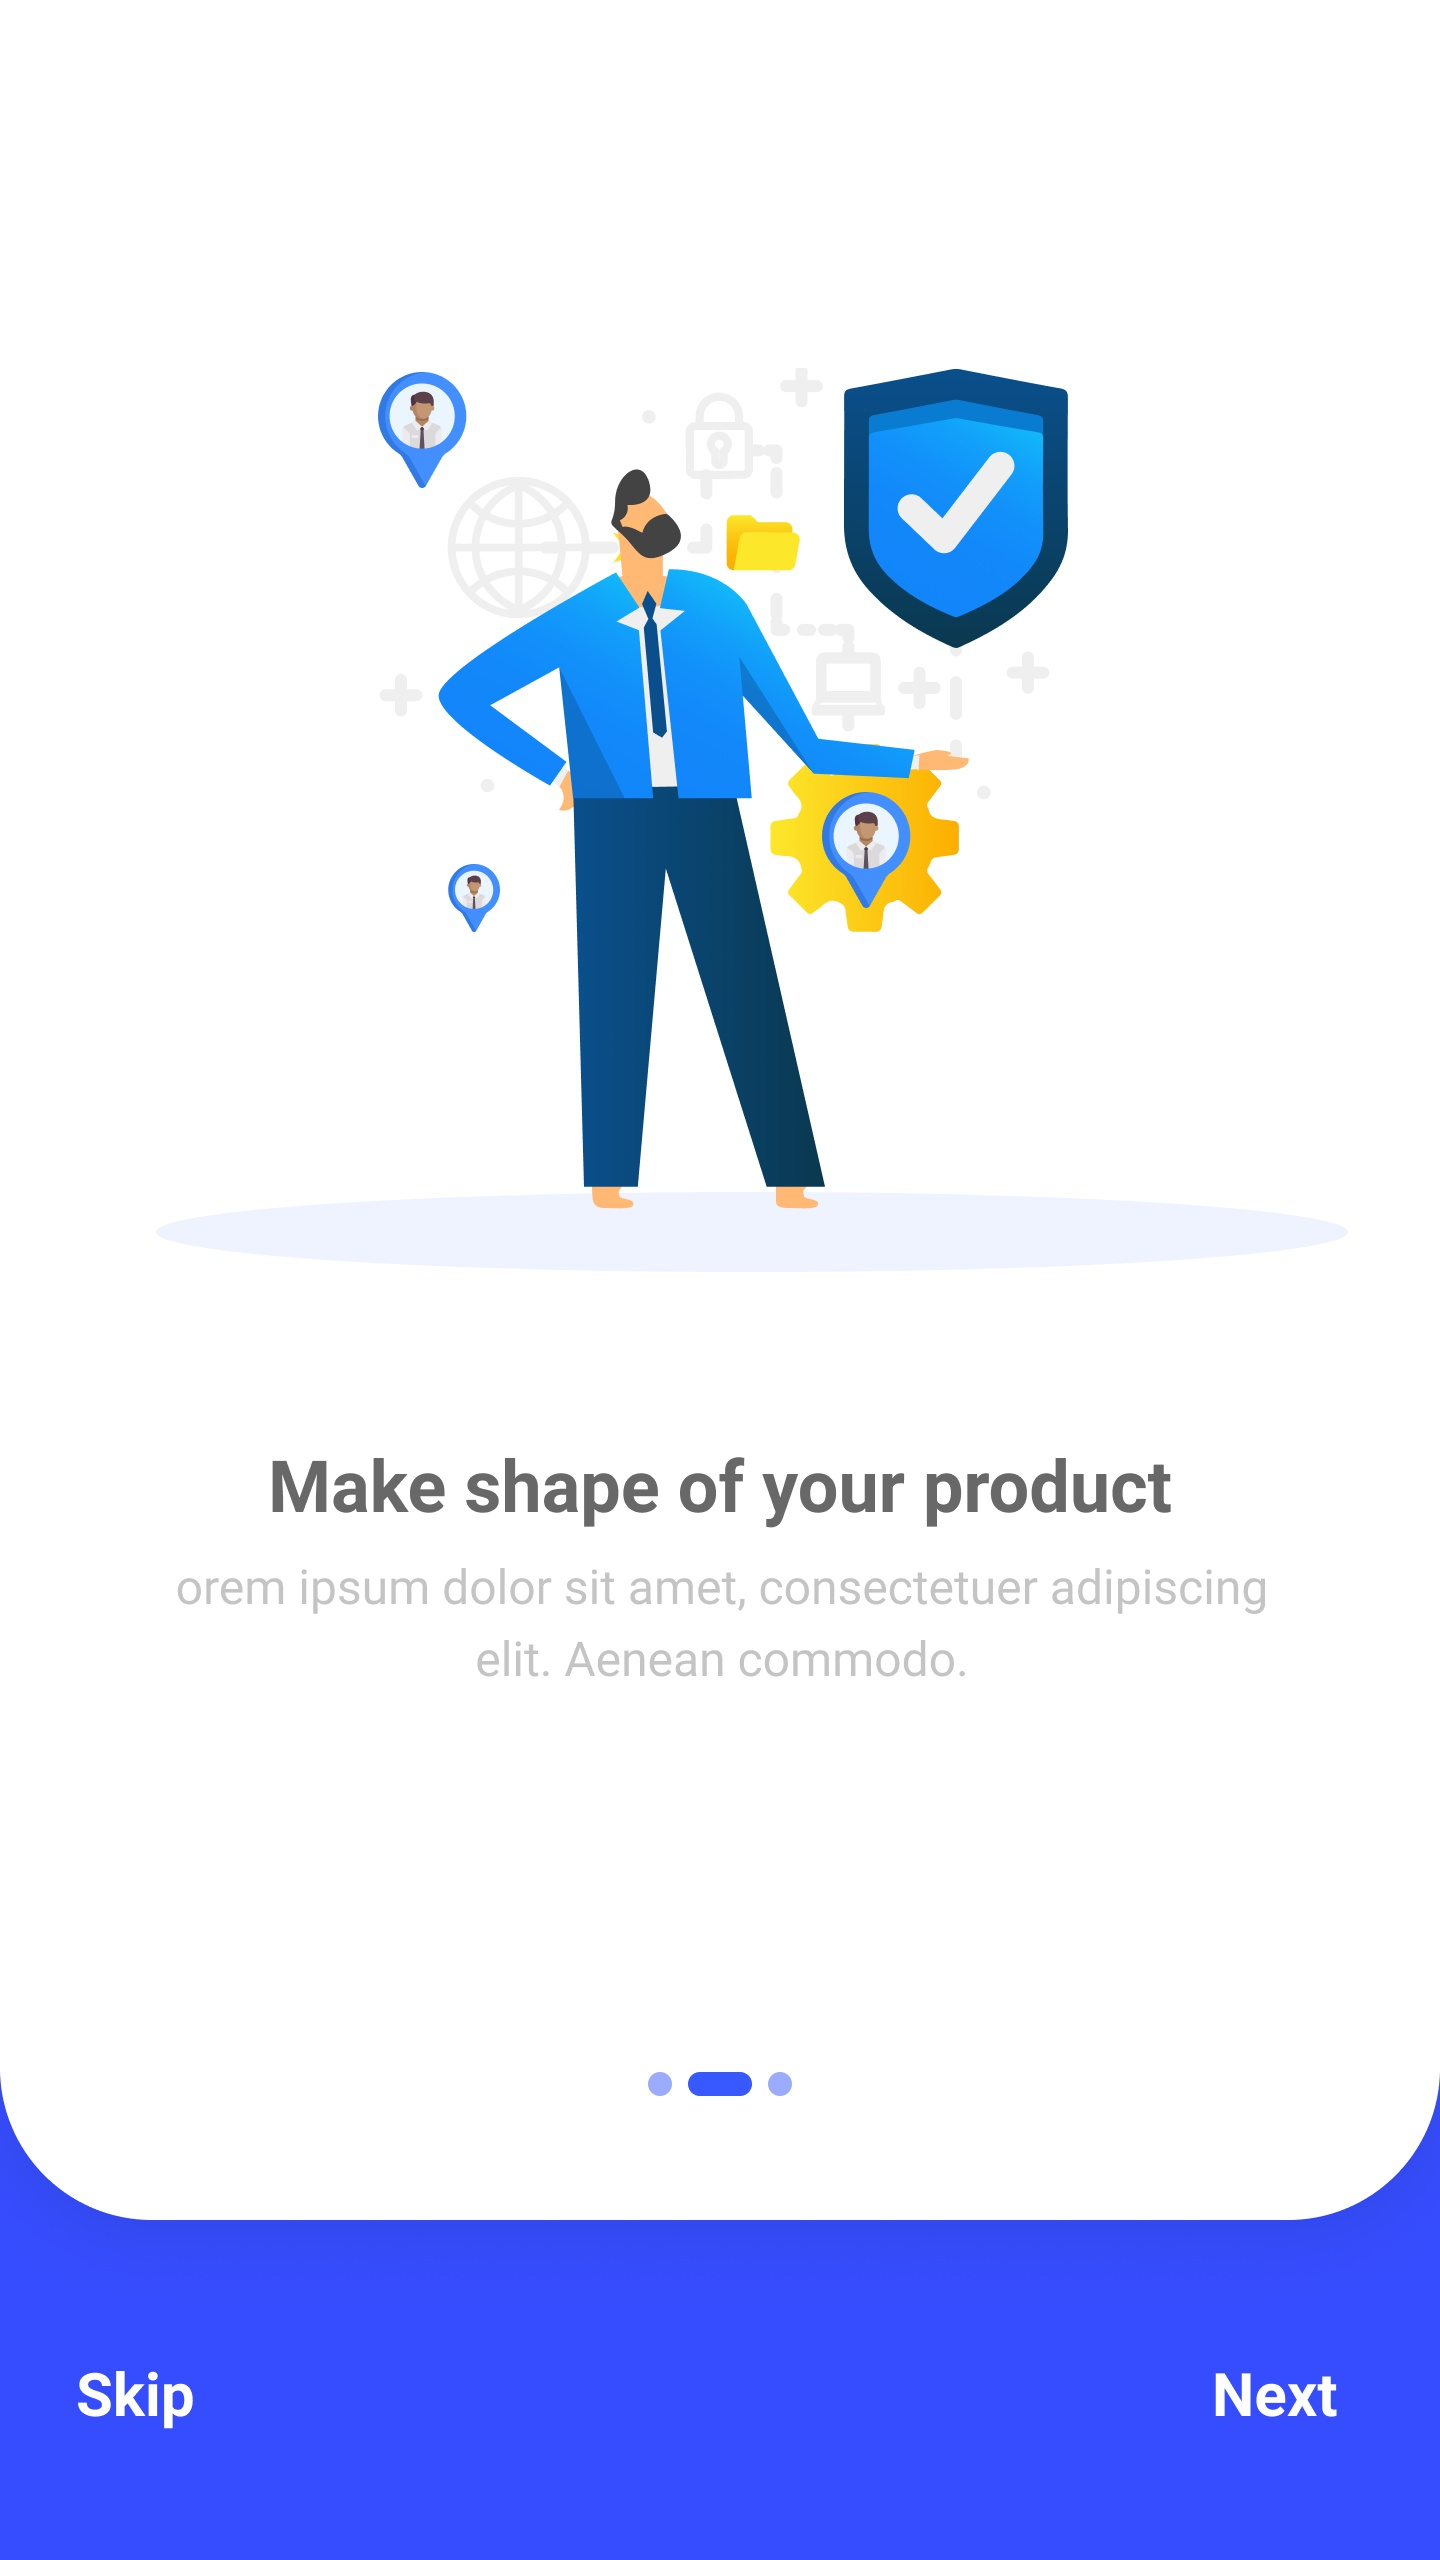Image: (156, 367, 1350, 1275)
PageIndicator: (647, 2071, 793, 2098)
Text: (178, 1567, 1266, 1677), (273, 1458, 1173, 1528), (77, 2370, 195, 2430), (1213, 2372, 1338, 2418)
